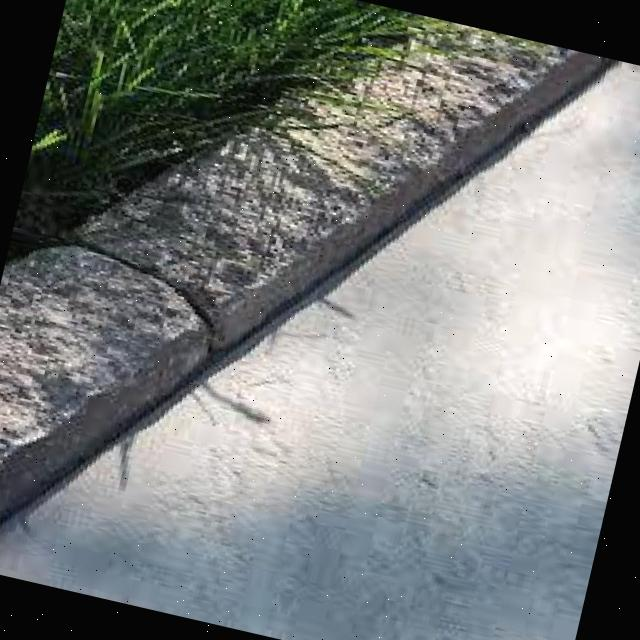curb: (69, 15, 603, 360), (1, 242, 230, 532)
